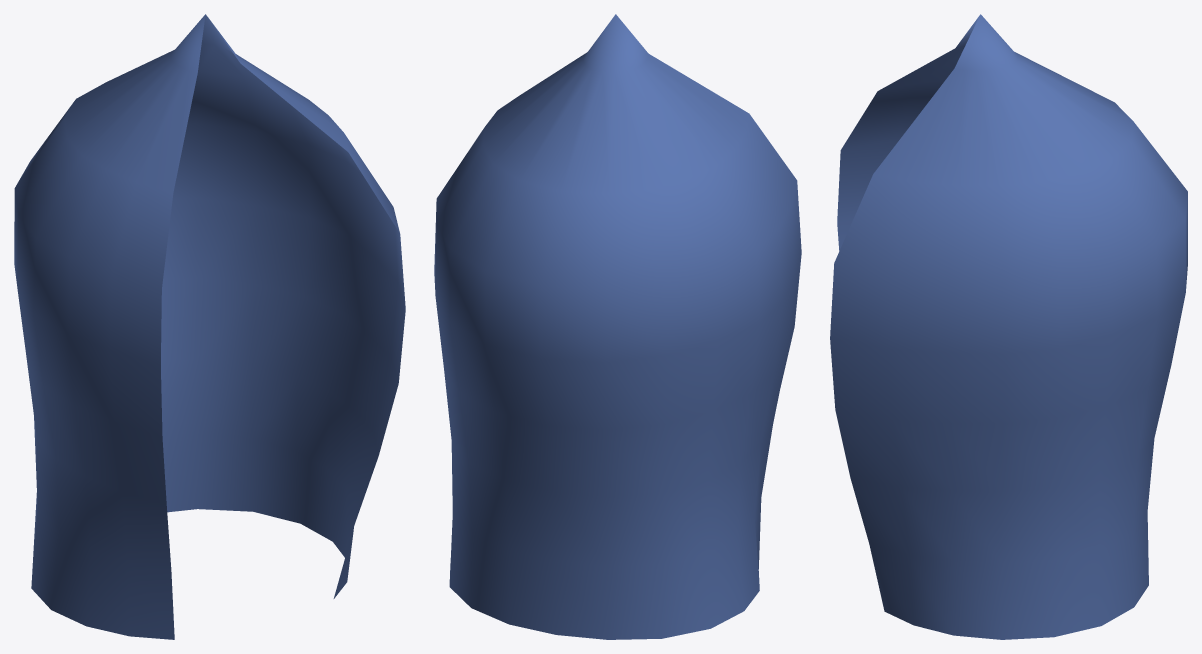
The model's file is spectre_armor_head.glb.
The picture shows the model from 3 angles, left to right: view 1: azimuth 30°, elevation 25°; view 2: azimuth 150°, elevation 25°; view 3: azimuth 270°, elevation 25°; orthographic projection. The views are drawn at different scales.
Parts seen in each view (by area): view 1: spectre_armor_head; view 2: spectre_armor_head; view 3: spectre_armor_head.
Part boxes in pixels (left/top/right/bottom): spectre_armor_head: left=14, top=14, right=405, bottom=639; spectre_armor_head: left=434, top=14, right=801, bottom=639; spectre_armor_head: left=830, top=14, right=1187, bottom=639.
Bounding box in the file's own units: 0.2135 × 0.3668 × 0.2125.
